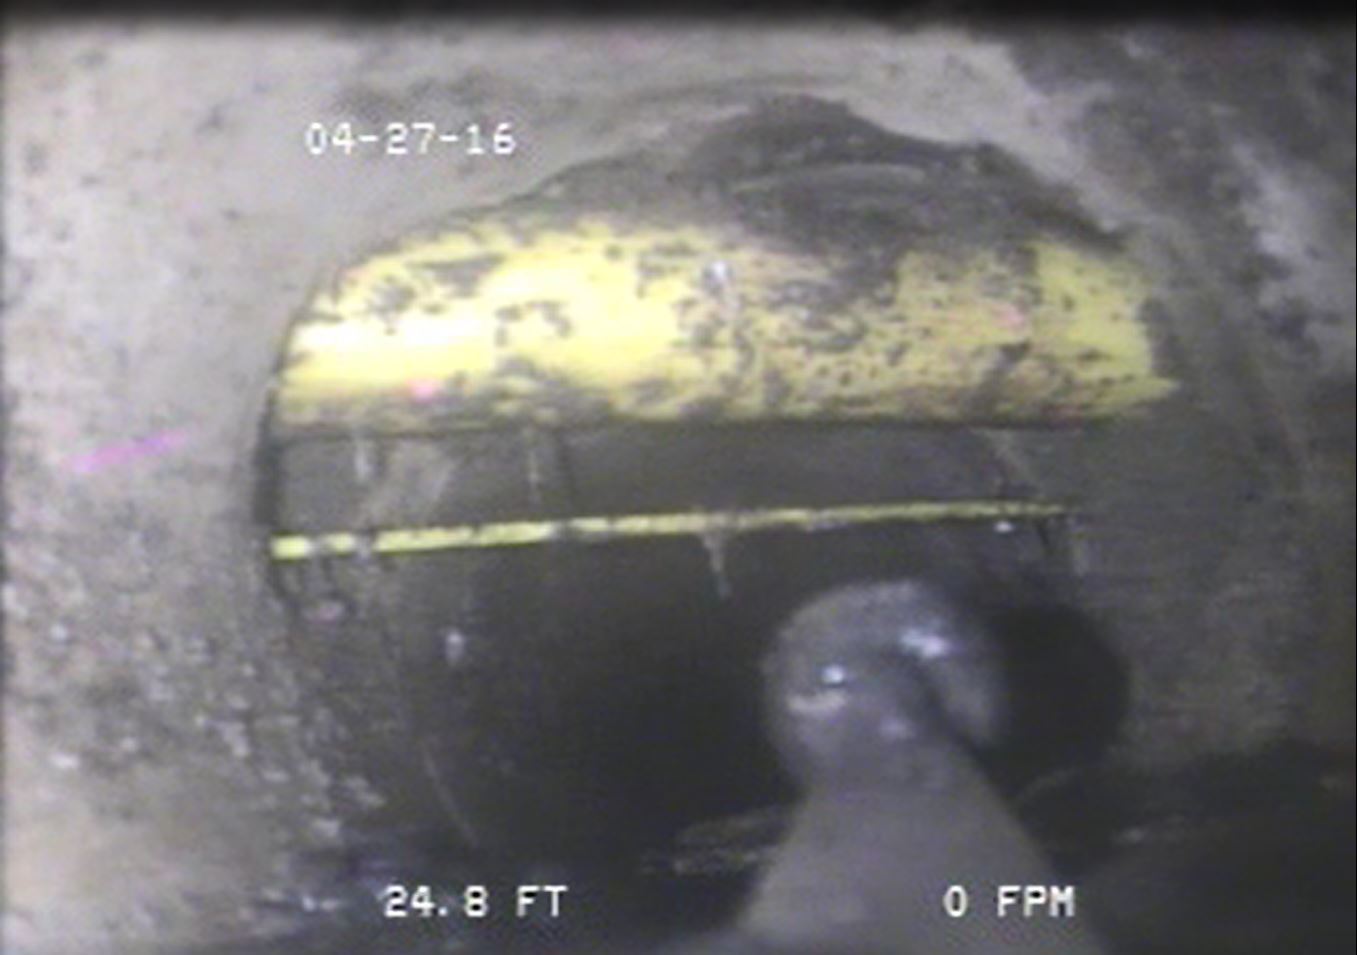cb: (244, 175, 1219, 421), (232, 489, 1195, 577)
